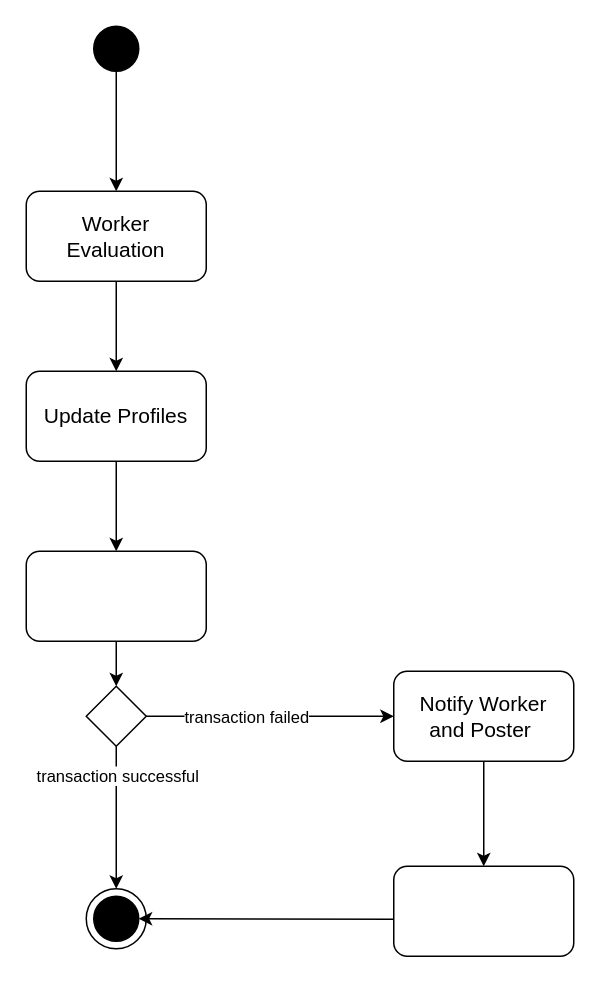
This 600x983 diagram has some shape labels left out. Each missing label, with the centre of its shape:
"Complete Transaction" belongs at [115,595].
"Notify Bank" belongs at [483,910].
